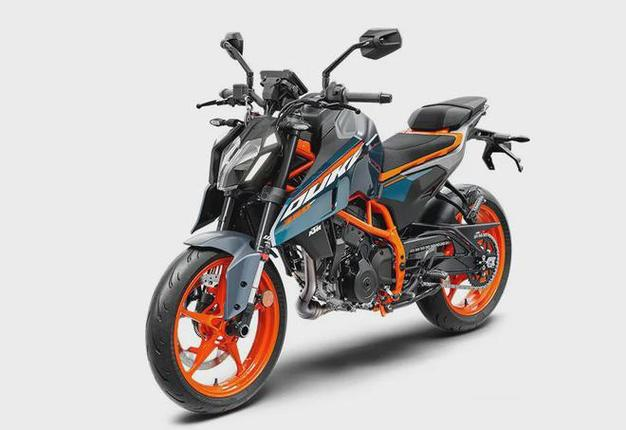摩托车: (141, 12, 532, 427)
